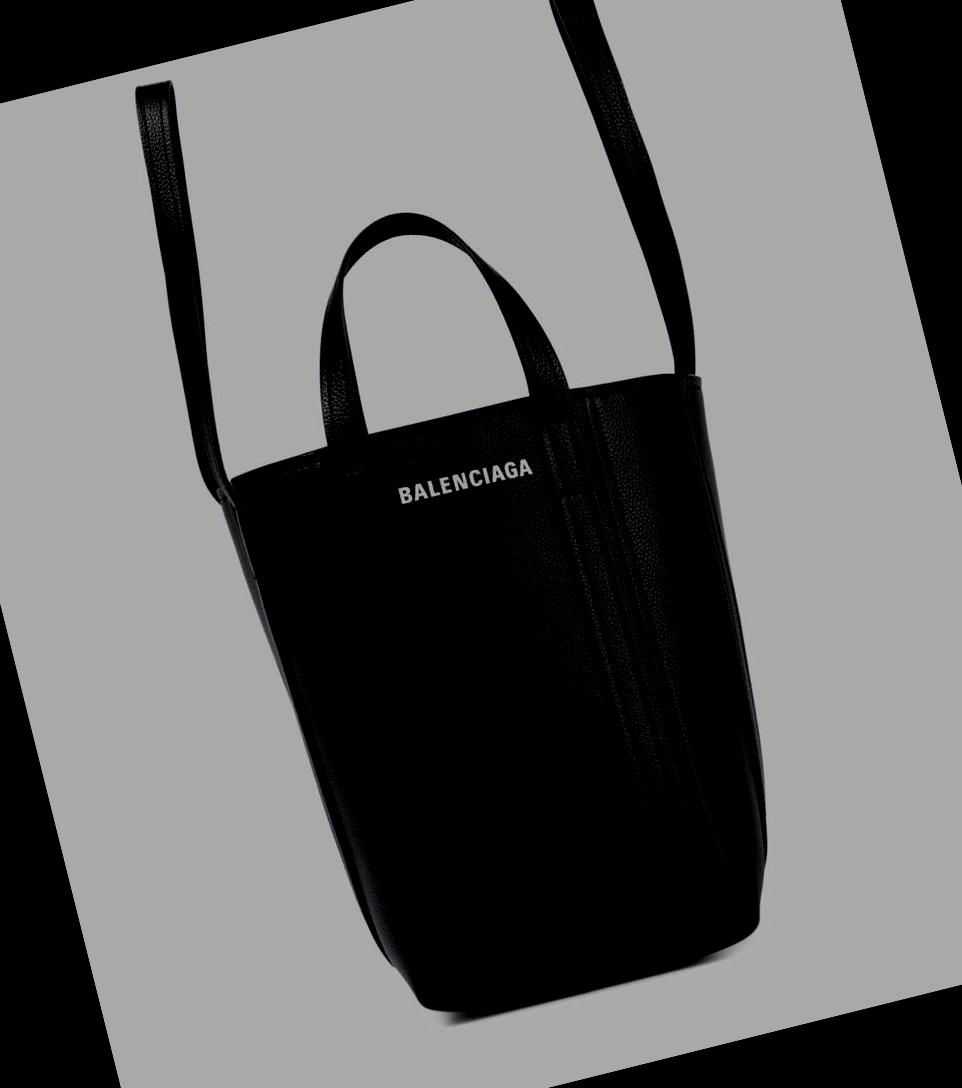BALENCIAGA: (398, 455, 535, 508)
